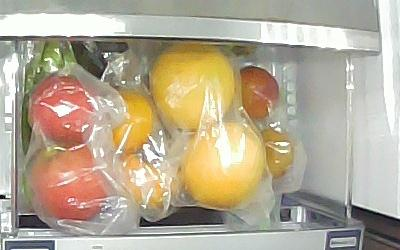apple_vinyl: (28, 73, 99, 152), (30, 151, 107, 221)
grapefruit_vinyl: (182, 119, 267, 208), (150, 42, 235, 128)
persimmon_vinyl: (122, 151, 176, 213), (111, 91, 154, 149)
prune_vinyl: (240, 65, 279, 118), (261, 127, 295, 179)
